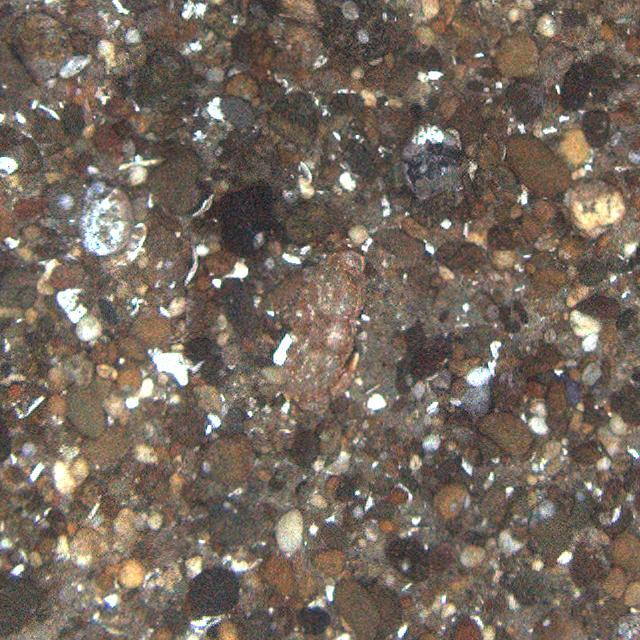crab: (285, 246, 367, 408)
